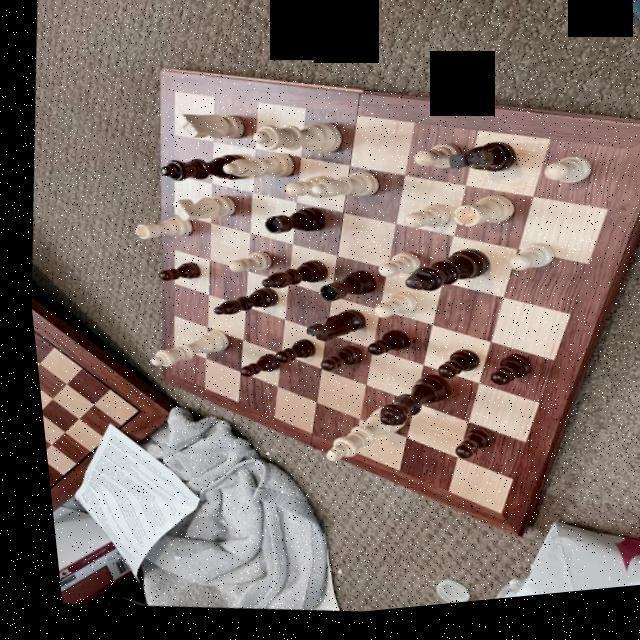chess-table-corners: (594, 142, 640, 188), (458, 496, 505, 538), (156, 78, 194, 112), (138, 362, 179, 392)
